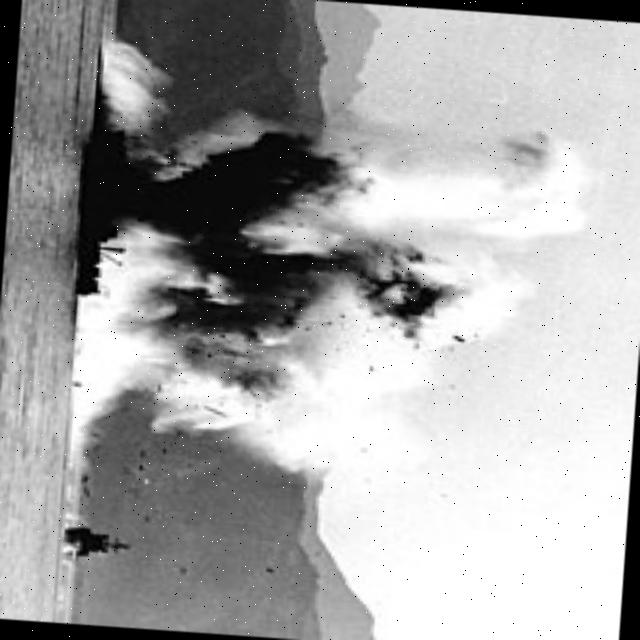explosion: (16, 29, 599, 510)
